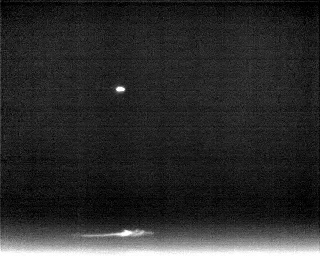AIRPLANE: (114, 84, 127, 95)
